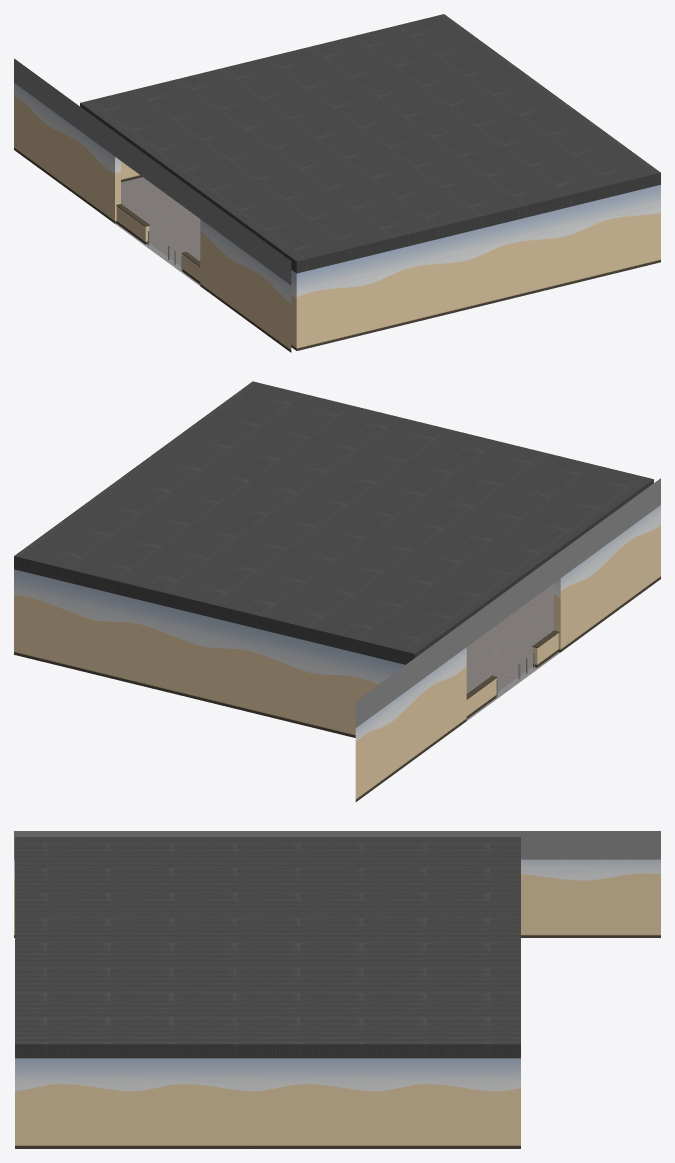
The model's file is OW_SM_Floor_01.FBX.
3 renders of one model, top to bottom at view 1: azimuth 30°, elevation 25°; view 2: azimuth 150°, elevation 25°; view 3: azimuth 270°, elevation 25°, orthographic. The views are drawn at different scales.
Parts seen in each view (by area): view 1: OW_SM_Floor_01; view 2: OW_SM_Floor_01; view 3: OW_SM_Floor_01.
Boxes of the visible parts, <box> form: OW_SM_Floor_01: <box>14,14,660,352</box>; OW_SM_Floor_01: <box>14,381,660,801</box>; OW_SM_Floor_01: <box>14,831,660,1148</box>.
Bounding box in the file's own units: 2162 × 512 × 2806.
